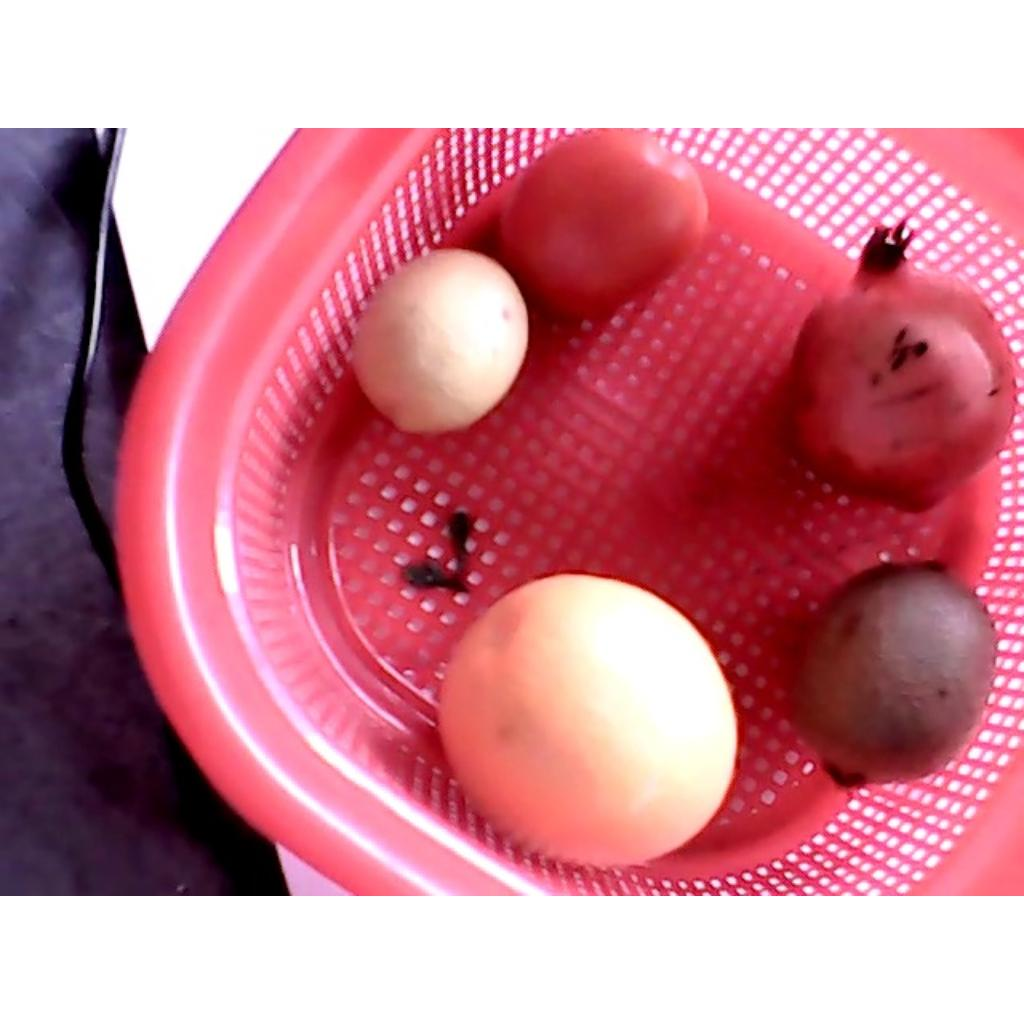kiwi: (784, 559, 1000, 790)
lemon: (352, 250, 529, 432)
orange: (437, 577, 736, 872)
pomegranate: (786, 222, 1016, 512)
tomato: (496, 133, 705, 323)
